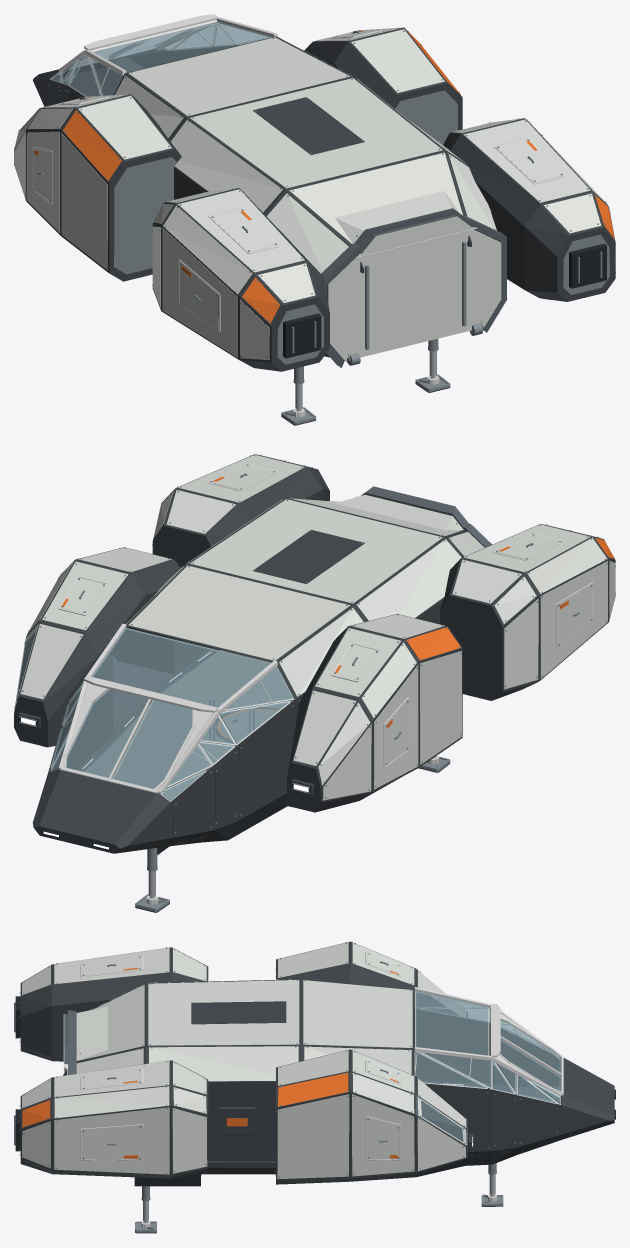
File: explorer-study.glb
3 renders of one model, top to bottom at view 1: azimuth 30°, elevation 25°; view 2: azimuth 150°, elevation 25°; view 3: azimuth 270°, elevation 25°, orthographic. The views are drawn at different scales.
Visible parts, largest first — view 1: Rear ramp main leaf, Core removable outer cover 05-3, Core removable outer cover 04-3, Core removable outer cover 06-3, Shoulder -1 aft interface blind cover, Shoulder -1 service panel 2-5, Core removable outer cover 05-4, Joint pane 10 | Cockpit glazing 03-3 pane 0, Aft housing -1 service panel 1-5, Glazing fixed6061 carrier backbone bracket tab cage cluster, Aft housing 1 service panel 1-3, Aft housing -1 service panel 1-3 (+44 smaller); view 2: Core removable outer cover 04-3, Core removable outer cover 05-3, Crew access floor | round opening, Wedge nose | continuous pressure skin, Joint pane 10 | Cockpit glazing 03-3 pane 0, Glazing fixed6061 carrier backbone bracket tab cage cluster, Aft housing -1 end closure 0, Joint pane 14 | Visor | windshield 1, Core removable outer cover 03-5, Joint pane 13 | Visor | windshield -1, Core removable outer cover 05-4, Shoulder -1 service panel 2-5 (+53 smaller); view 3: Core removable outer cover 05-3, Core removable outer cover 04-3, Shoulder 1 service panel 2-1, Aft housing 1 service panel 1-1, Core pressure skin 03-5, Core removable outer cover 05-1, Core removable outer cover 05-2, Glazing fixed6061 carrier backbone bracket tab cage cluster, Joint pane 10 | Cockpit glazing 03-3 pane 0, Core removable outer cover 06-3, Wedge nose | continuous pressure skin, Shoulder 1 service panel 1-1 (+60 smaller).
Part boxes in pixels (<box>): Rear ramp main leaf: <box>328,216,501,360</box>; Core removable outer cover 05-3: <box>190,78,442,188</box>; Core removable outer cover 04-3: <box>128,37,349,116</box>; Core removable outer cover 06-3: <box>289,152,462,243</box>; Shoulder -1 aft interface blind cover: <box>114,157,177,274</box>; Shoulder -1 service panel 2-5: <box>61,133,107,270</box>; Core removable outer cover 05-4: <box>171,120,282,212</box>; Joint pane 10 | Cockpit glazing 03-3 pane 0: <box>94,21,272,72</box>; Aft housing -1 service panel 1-5: <box>162,228,237,357</box>; Glazing fixed6061 carrier backbone bracket tab cage cluster: <box>51,14,277,96</box>; Aft housing 1 service panel 1-3: <box>463,119,590,202</box>; Aft housing -1 service panel 1-3: <box>178,189,304,272</box>; Core removable outer cover 04-3: <box>128,565,349,660</box>; Core removable outer cover 05-3: <box>190,499,442,603</box>; Crew access floor | round opening: <box>84,649,294,800</box>; Wedge nose | continuous pressure skin: <box>32,769,170,853</box>; Joint pane 10 | Cockpit glazing 03-3 pane 0: <box>92,627,270,707</box>; Glazing fixed6061 carrier backbone bracket tab cage cluster: <box>50,623,293,801</box>; Aft housing -1 end closure 0: <box>440,596,502,700</box>; Joint pane 14 | Visor | windshield 1: <box>66,689,148,777</box>; Core removable outer cover 03-5: <box>239,703,294,817</box>; Joint pane 13 | Visor | windshield -1: <box>113,700,192,788</box>; Core removable outer cover 05-4: <box>356,539,461,620</box>; Shoulder -1 service panel 2-5: <box>420,651,462,764</box>; Core removable outer cover 05-3: <box>148,980,299,1045</box>; Core removable outer cover 04-3: <box>303,980,412,1047</box>; Shoulder 1 service panel 2-1: <box>277,1094,349,1179</box>; Aft housing 1 service panel 1-1: <box>54,1107,169,1174</box>; Core pressure skin 03-5: <box>414,1008,490,1083</box>; Core removable outer cover 05-1: <box>208,1083,275,1160</box>; Core removable outer cover 05-2: <box>149,1046,298,1081</box>; Glazing fixed6061 carrier backbone bracket tab cage cluster: <box>414,987,563,1104</box>; Joint pane 10 | Cockpit glazing 03-3 pane 0: <box>415,990,488,1055</box>; Core removable outer cover 06-3: <box>76,984,144,1060</box>; Wedge nose | continuous pressure skin: <box>562,1058,614,1139</box>; Shoulder 1 service panel 1-1: <box>352,1094,414,1176</box>.
Bounding box in the file's own units: 6.53 × 3.96 × 11.03.
